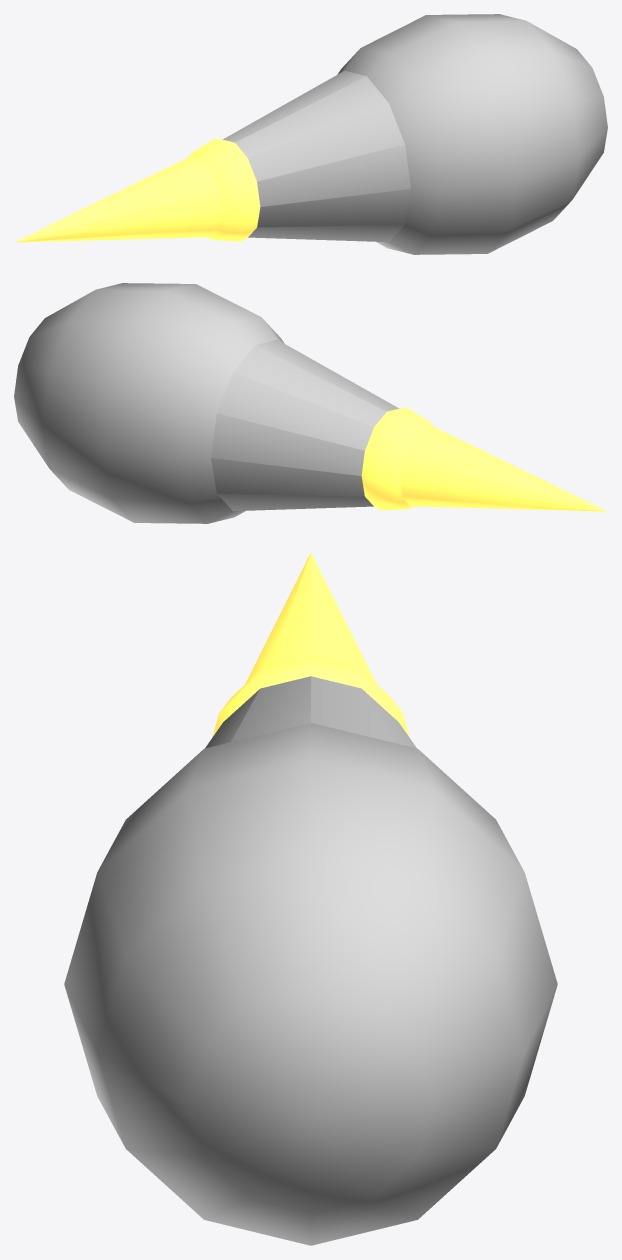
Rendered from greek_fire.glb.
The picture shows the model from 3 angles, top to bottom: view 1: azimuth 30°, elevation 25°; view 2: azimuth 150°, elevation 25°; view 3: azimuth 270°, elevation 25°; orthographic projection. The views are drawn at different scales.
Parts seen in each view (by area): view 1: model; view 2: model; view 3: model.
Part boxes in pixels (x1,y1,x2,y2): model: (14, 14, 607, 254); model: (14, 283, 607, 523); model: (64, 552, 557, 1245).
Size of the model in its own units: 0.762 by 0.28 by 0.28.
